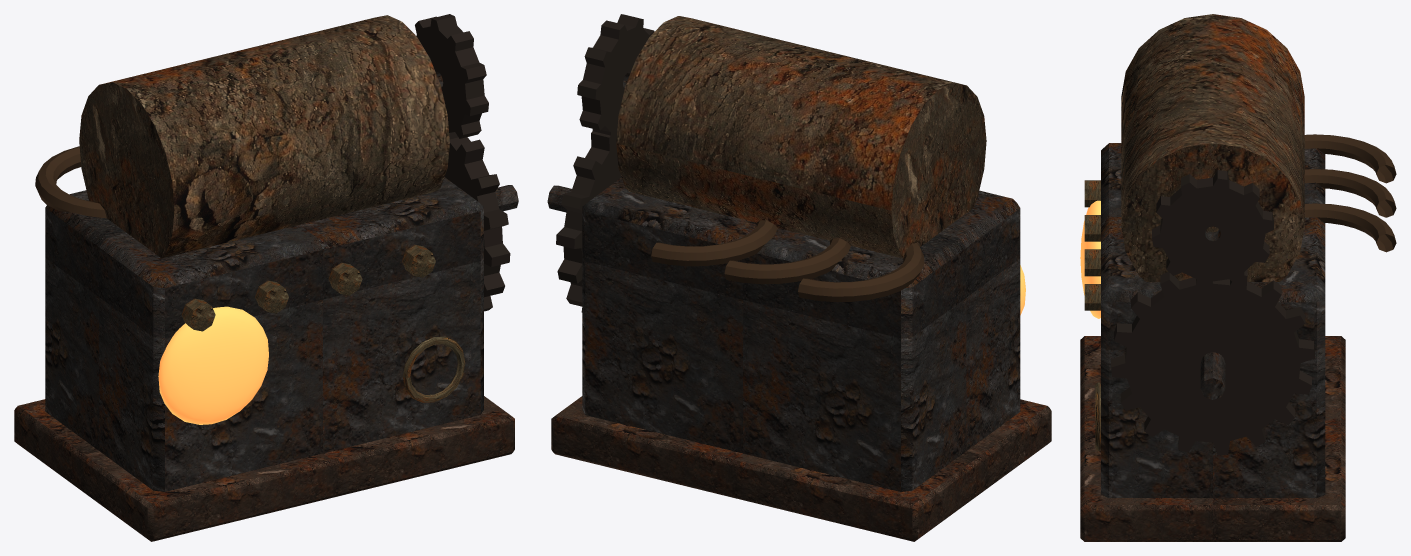
The model's file is unknown-machine-v01-photo.glb.
3 renders of one model, left to right at view 1: azimuth 30°, elevation 25°; view 2: azimuth 150°, elevation 25°; view 3: azimuth 270°, elevation 25°, orthographic. The views are drawn at different scales.
Visible parts, largest first — view 1: unknown-machine; view 2: unknown-machine; view 3: unknown-machine.
Boxes of the visible parts, x1,y1,x2,y2 form: unknown-machine: (14, 14, 518, 541); unknown-machine: (547, 14, 1051, 541); unknown-machine: (1080, 14, 1396, 541).
Size of the model in its own units: 2.35 by 2.05 by 1.55.
Materials: 5 (4 with a texture image).
